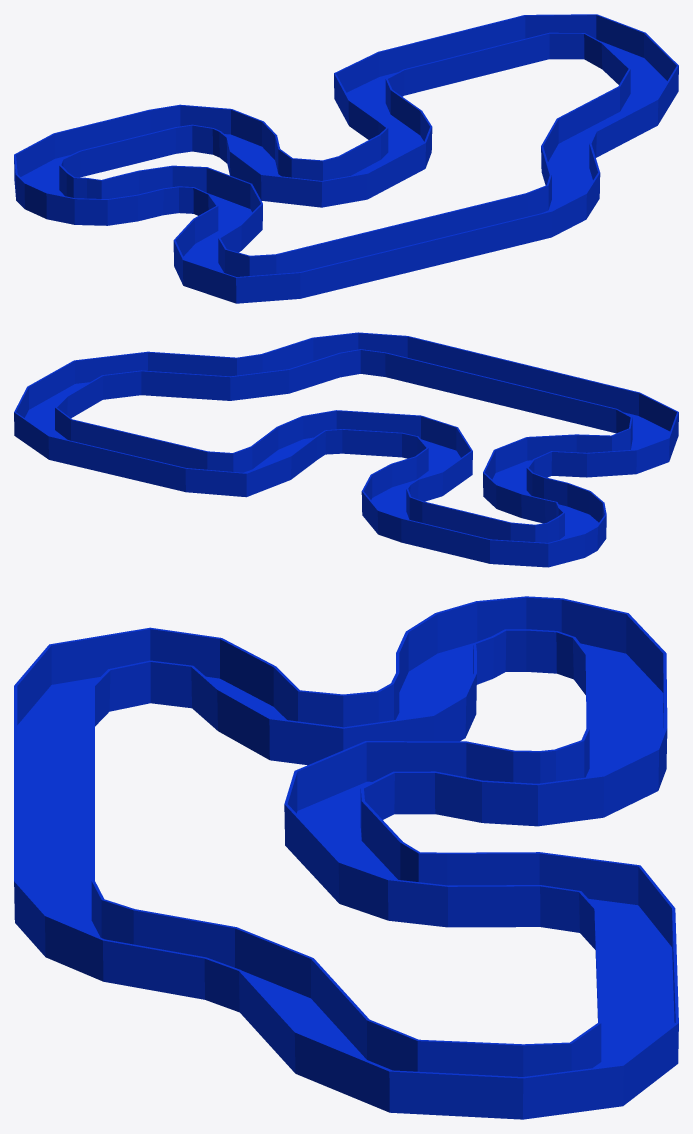
File: track.glb
3 renders of one model, top to bottom at view 1: azimuth 30°, elevation 25°; view 2: azimuth 150°, elevation 25°; view 3: azimuth 270°, elevation 25°, orthographic. The views are drawn at different scales.
Parts seen in each view (by area): view 1: Road; view 2: Road; view 3: Road.
Part boxes in pixels (bbox=[...]): Road: bbox=[14, 14, 678, 303]; Road: bbox=[14, 332, 678, 567]; Road: bbox=[14, 596, 678, 1119].
Size of the model in its own units: 69 by 2.8 by 40.22.
